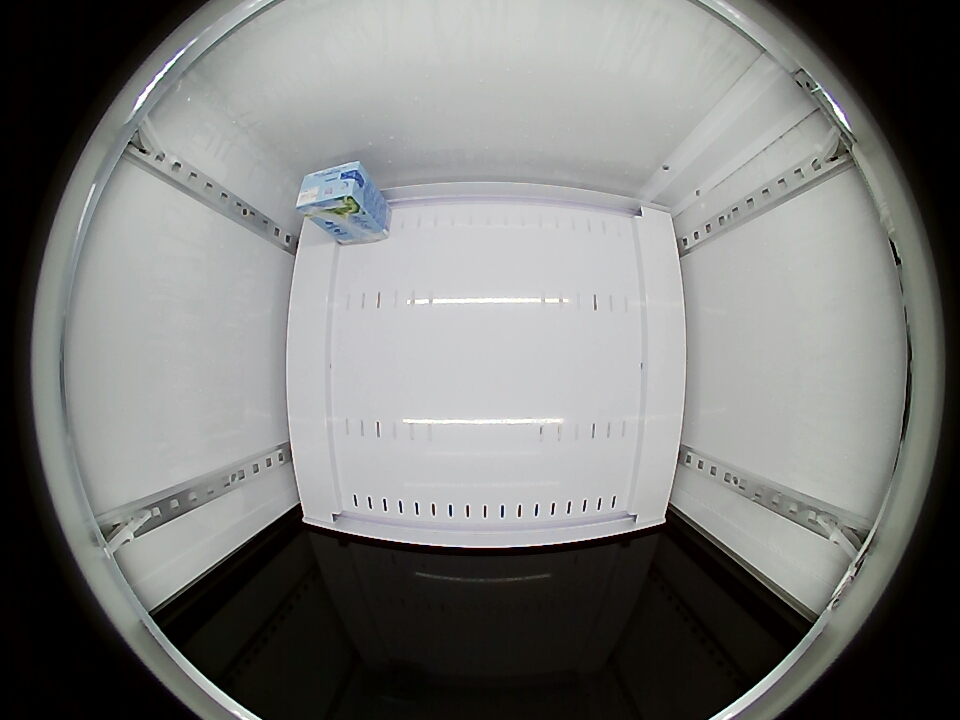weitanaiditang: (296, 160, 371, 220)
